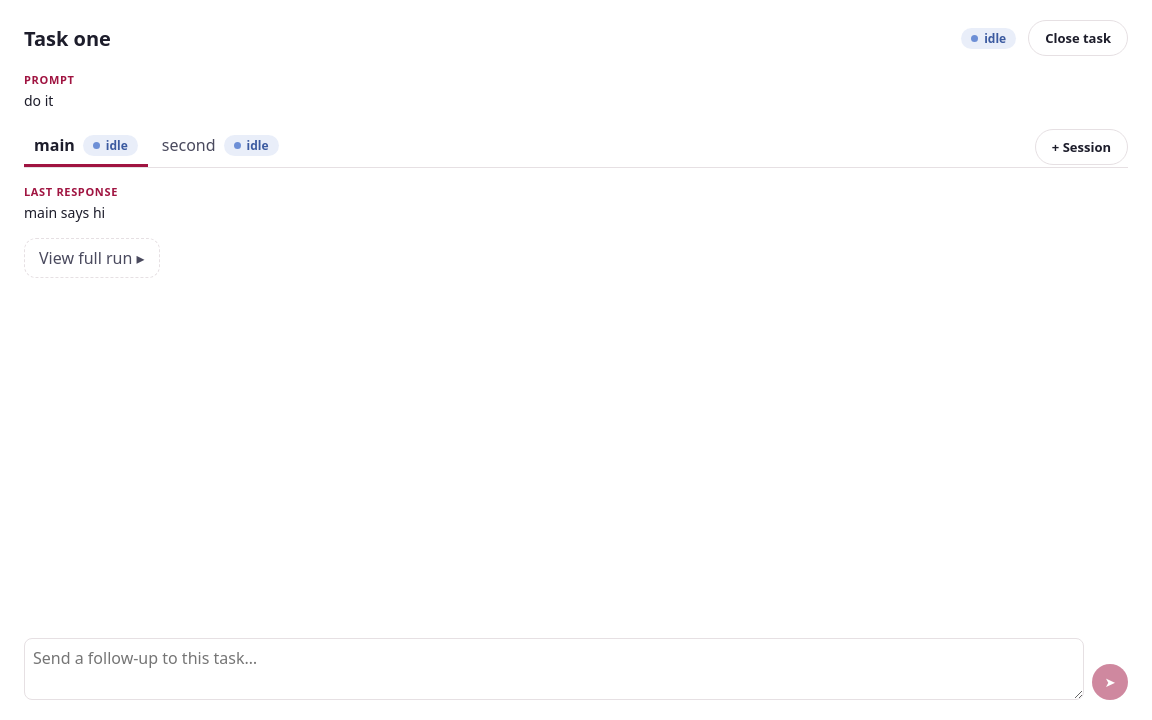
Test: session tabs › creating a session selects it
The image size is (1152, 720).
Click the button "+ Session": (1081, 146) x1=1035 y1=128 x2=1128 y2=164
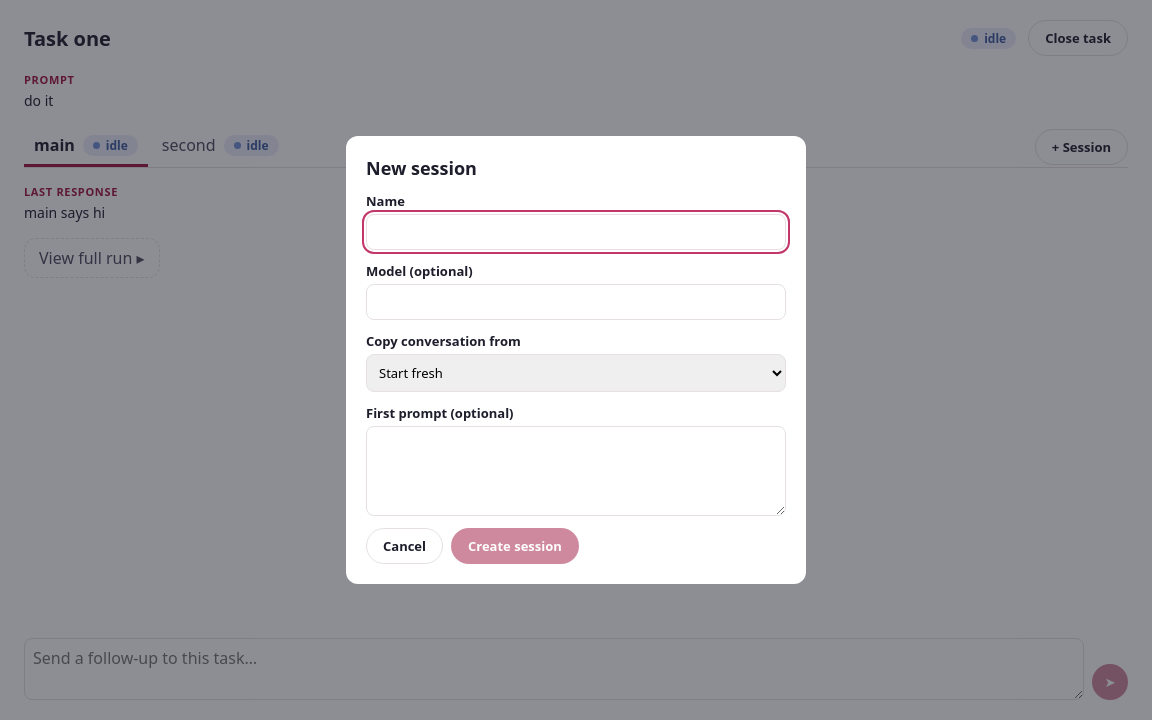
In the field labelled "Name": (576, 232) x1=366 y1=214 x2=786 y2=250, type "third"
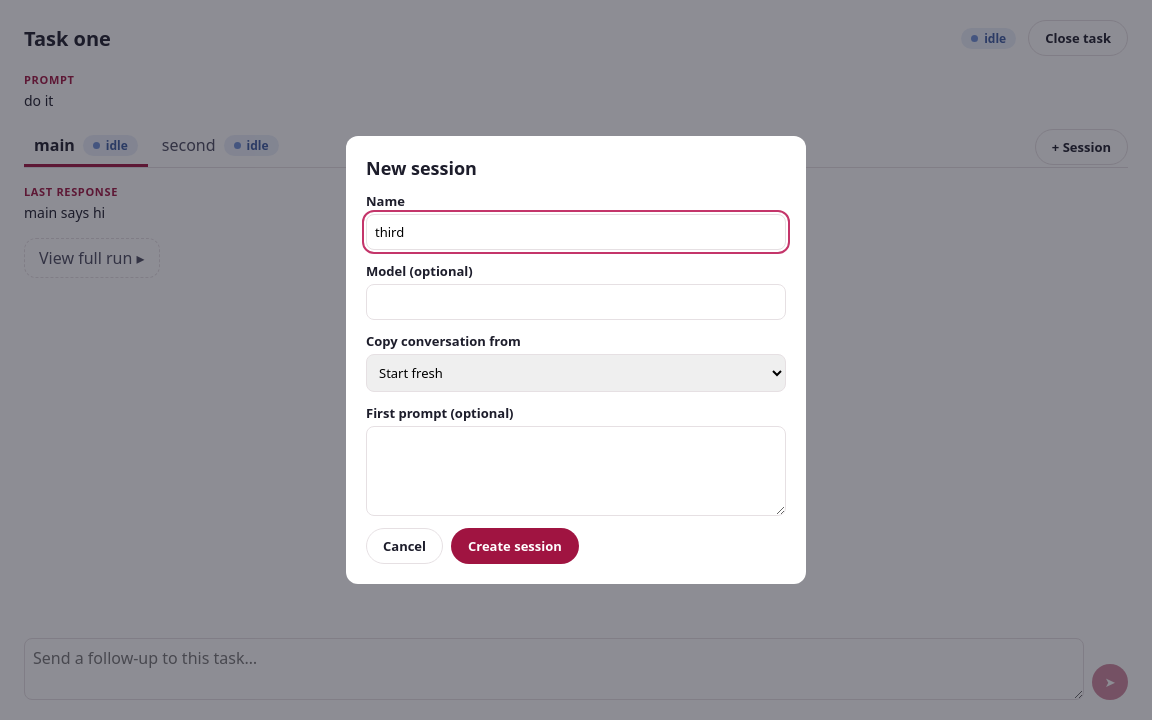
Click the button "Create session": (515, 546) x1=451 y1=528 x2=579 y2=564
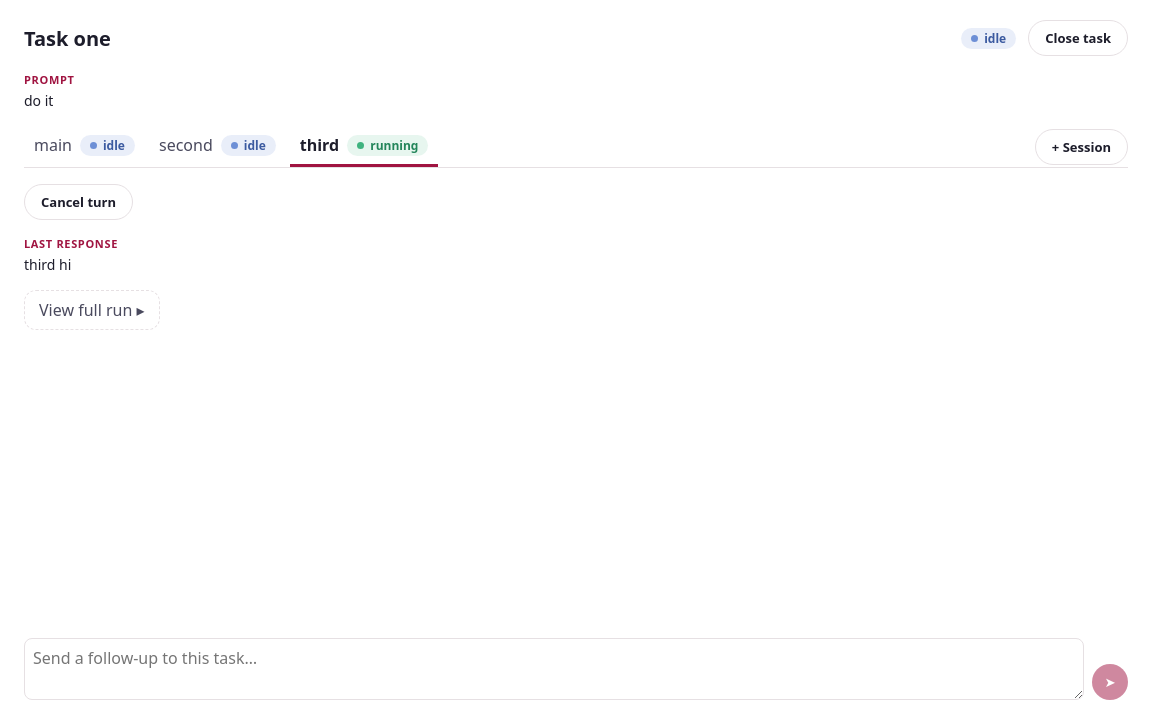
Expected: the dialog is gone
